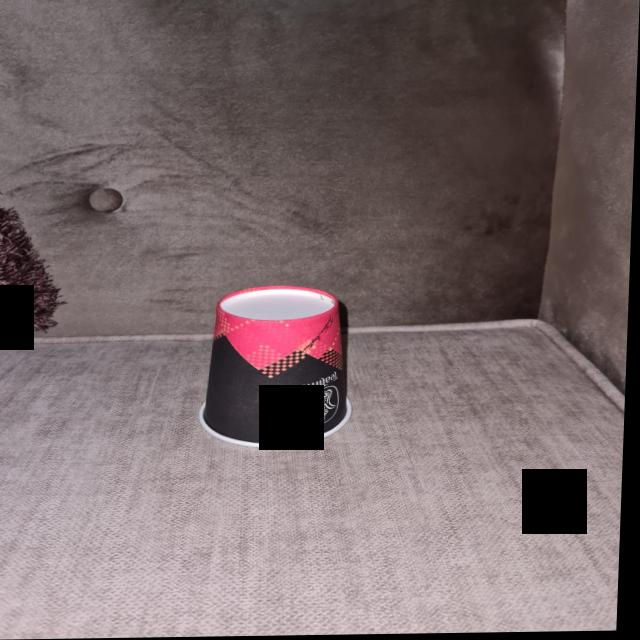cups: (200, 288, 356, 449)
